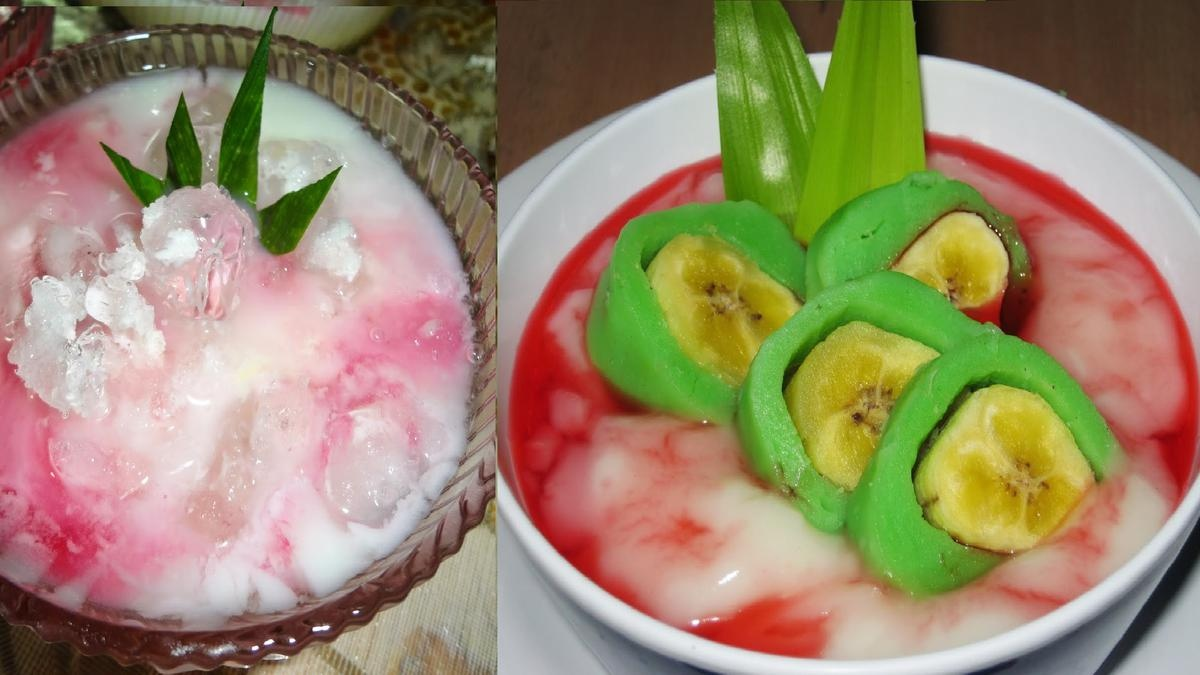es_pisang_ijo: (519, 128, 1199, 659)
